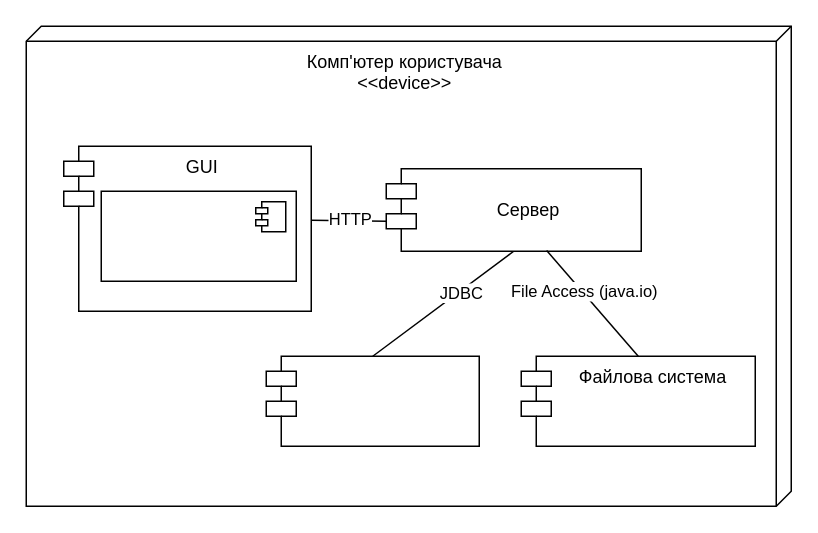
This 818x533 diagram has some shape labels left out. Each missing label, with the centre of its shape:
"«Annotation» audioeditor.exe" goes at point 198,235.
"База даних SQLite" goes at point 372,400.
